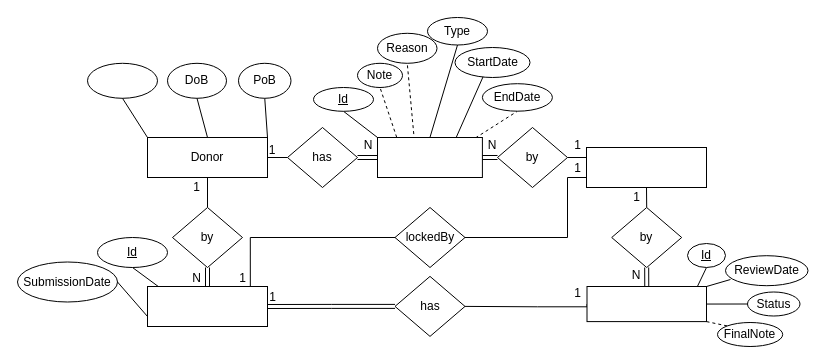
The diagram is 826 pixels wide and 364 high, and some of its shapes have lost their labels. Each missing label, with the centre of its shape:
Doctor: (x=646, y=167)
isVerified: (x=122, y=80)
Review: (x=646, y=304)
Submission: (x=207, y=306)
Suspension: (x=429, y=157)
